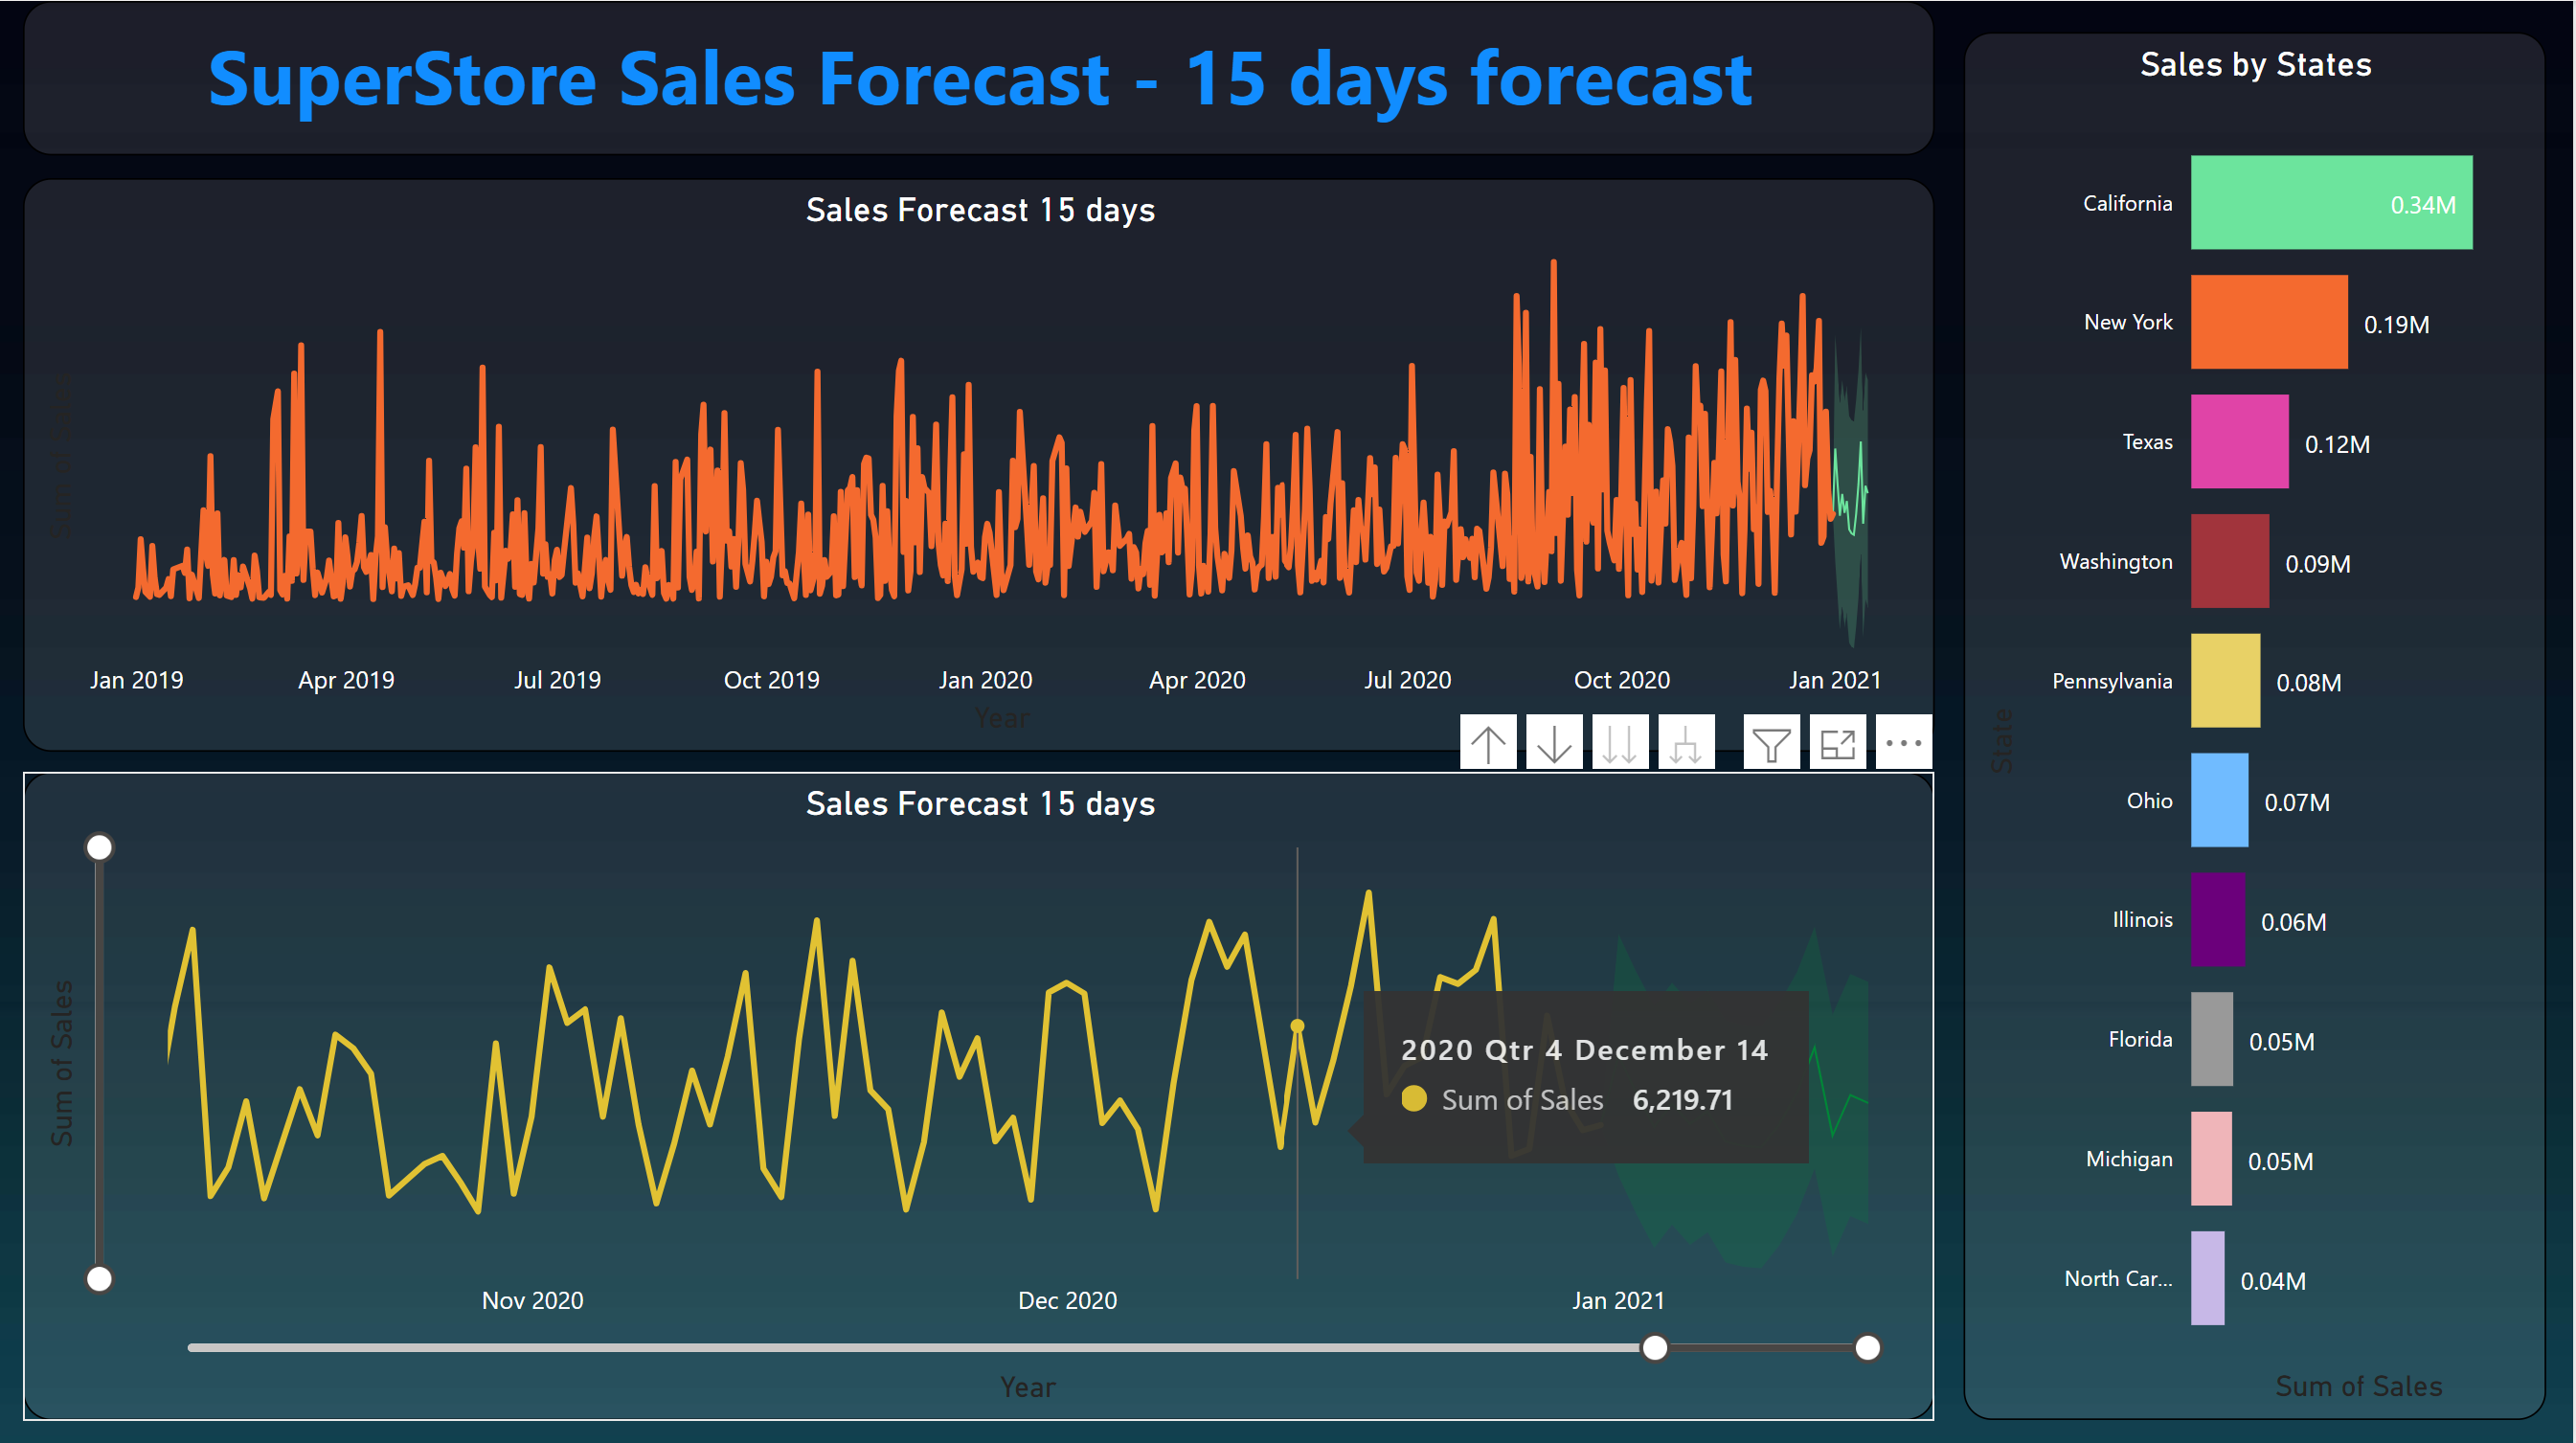

The page's visual inventory and layout, read from the dashboard file:
{"tool":"powerbi","page":{"name":"Page 2","canvas":[1280,720],"ordinal":1},"visuals":[{"type":"lineChart","title":"Sales Forecast 15 days","fields":{"Category":["SuperStore_Sales_Dataset.Order Date.Variation.Date Hierarchy.Year","SuperStore_Sales_Dataset.Order Date.Variation.Date Hierarchy.Quarter","SuperStore_Sales_Dataset.Order Date.Variation.Date Hierarchy.Month","SuperStore_Sales_Dataset.Order Date.Variation.Date Hierarchy.Day"],"Y":["Sum(SuperStore_Sales_Dataset.Sales)"]},"box":[12.3,87.8,950.7,285.4],"z":0},{"type":"lineChart","title":"Sales Forecast 15 days","fields":{"Category":["SuperStore_Sales_Dataset.Order Date.Variation.Date Hierarchy.Year","SuperStore_Sales_Dataset.Order Date.Variation.Date Hierarchy.Quarter","SuperStore_Sales_Dataset.Order Date.Variation.Date Hierarchy.Month","SuperStore_Sales_Dataset.Order Date.Variation.Date Hierarchy.Day"],"Y":["Sum(SuperStore_Sales_Dataset.Sales)"]},"box":[12.3,382.8,950.7,322.4],"z":1000},{"type":"barChart","title":"Sales by States","fields":{"Y":["Sum(SuperStore_Sales_Dataset.Sales)"],"Category":["SuperStore_Sales_Dataset.State"]},"box":[976.8,15.1,289.5,690.1],"z":2000},{"type":"textbox","box":[12.3,0,950.7,76.8],"z":3000}]}

Visuals, with their boxes in screenshot pixels (x1, y1, x2, y2), scaled from the page's 1280x720 canvas onto the 2576x1443 screenshot:
"Sales Forecast 15 days" lineChart: <region>25, 176, 1938, 748</region>
"Sales Forecast 15 days" lineChart: <region>25, 767, 1938, 1413</region>
"Sales by States" barChart: <region>1966, 31, 2548, 1413</region>
textbox: <region>25, 0, 1938, 154</region>
